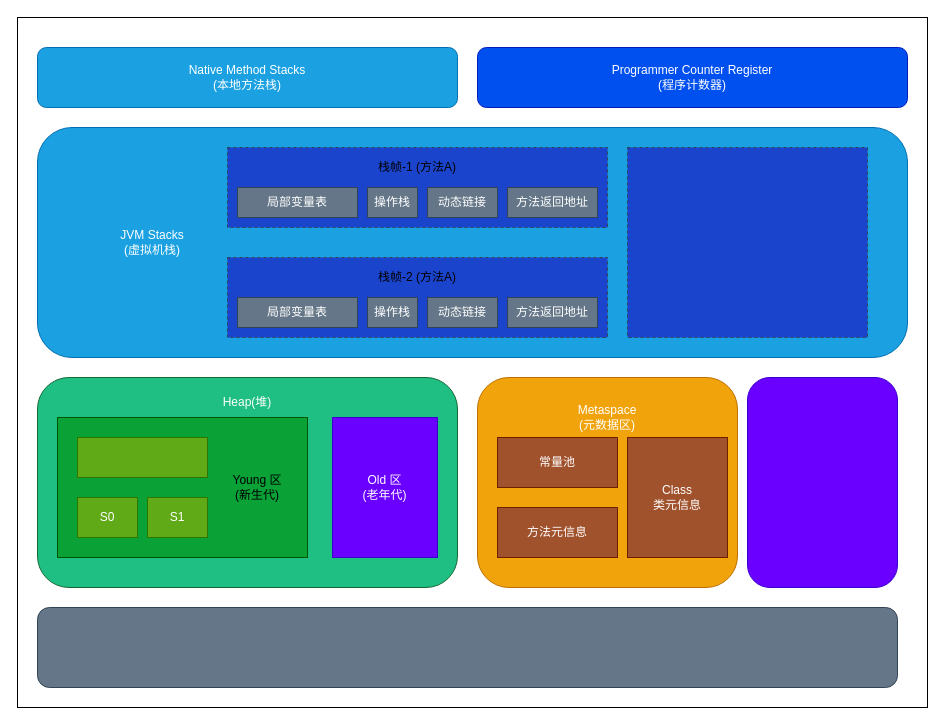
Some shapes in this 945 by 725 pixel diagram are drawn without their labels. Each missing label, with the centre of its shape:
"CodeCache JVM 代码缓存 (又称为 JIT 代码缓存)" belongs at (822,482).
"Direct Memort(直接内存)" belongs at (467,647).
"Eden 区" belongs at (142,457).
"栈帧-3 ... 方法C ..." belongs at (747,242).
